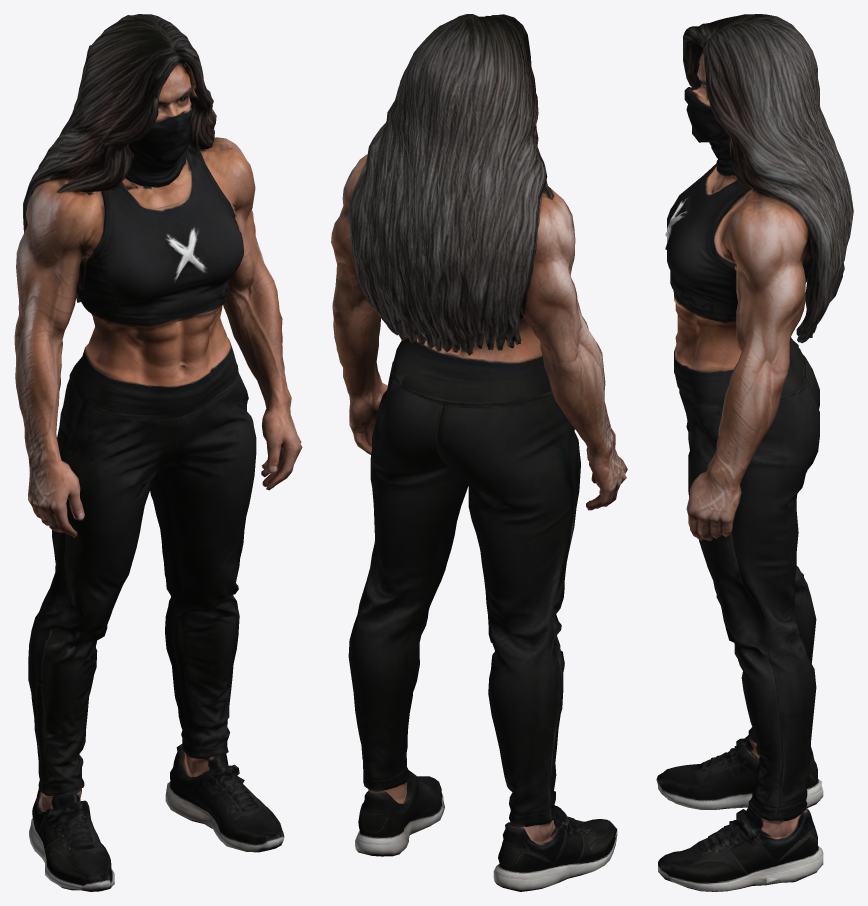
Rendered from Catalina.glb.
3 views of the same model, side by side, from view 1: azimuth 30°, elevation 25°; view 2: azimuth 150°, elevation 25°; view 3: azimuth 270°, elevation 25° (orthographic).
Parts seen in each view (by area): view 1: tripo_node_35de7830-fcf4-479b-8be9-1ef136c81772; view 2: tripo_node_35de7830-fcf4-479b-8be9-1ef136c81772; view 3: tripo_node_35de7830-fcf4-479b-8be9-1ef136c81772.
Part boxes in pixels (bbox=[...]): tripo_node_35de7830-fcf4-479b-8be9-1ef136c81772: bbox=[14, 14, 302, 891]; tripo_node_35de7830-fcf4-479b-8be9-1ef136c81772: bbox=[331, 14, 627, 891]; tripo_node_35de7830-fcf4-479b-8be9-1ef136c81772: bbox=[656, 14, 853, 891].
Bounding box in the file's own units: 0.3273 × 0.9782 × 0.2125.
1 material, 1 textured.
